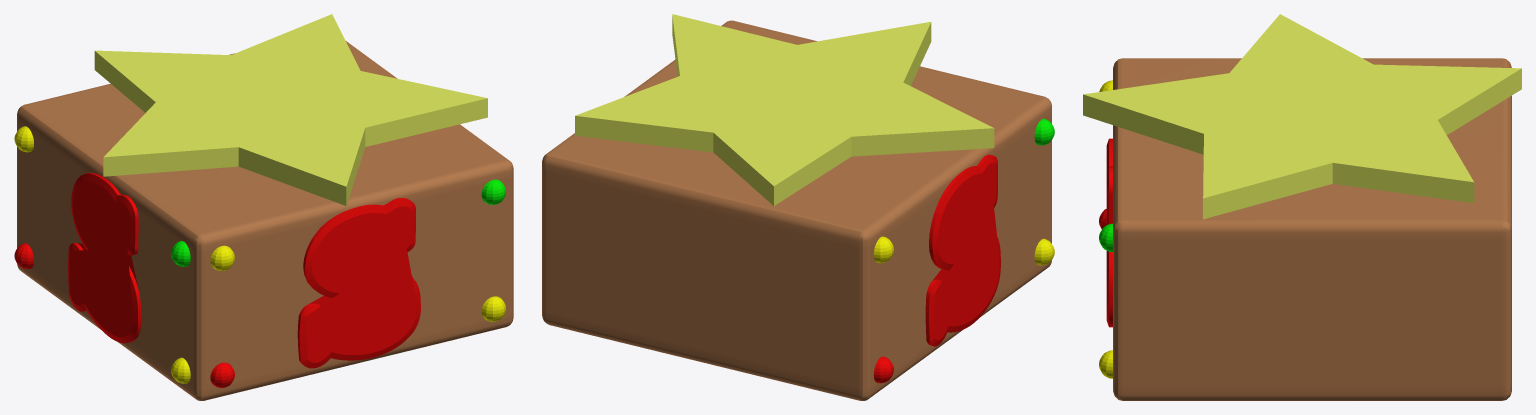
File: SMRPGSaveBlock.fbx
3 views of the same model, side by side, from view 1: azimuth 30°, elevation 25°; view 2: azimuth 150°, elevation 25°; view 3: azimuth 270°, elevation 25° (orthographic). The views are drawn at different scales.
Visible parts, largest first — view 1: MainBox, Star, S_1, S_2, BallDecor, BallDecor1, BallDecor3, BallDecor2; view 2: MainBox, Star, S_2; view 3: MainBox, Star, S_1.
Boxes of the visible parts, x1,y1,x2,y2 form: MainBox: (17, 41, 513, 400); Star: (94, 14, 487, 205); S_1: (297, 198, 420, 368); S_2: (68, 172, 141, 343); BallDecor: (210, 245, 234, 270); BallDecor1: (481, 179, 505, 204); BallDecor3: (210, 362, 234, 387); BallDecor2: (481, 296, 505, 321); MainBox: (542, 20, 1051, 400); Star: (575, 14, 994, 205); S_2: (925, 154, 1000, 346); MainBox: (1113, 58, 1511, 400); Star: (1083, 14, 1521, 219); S_1: (1106, 138, 1112, 327).
Bounding box in the file's own units: 4.38 × 2.35 × 4.4.
